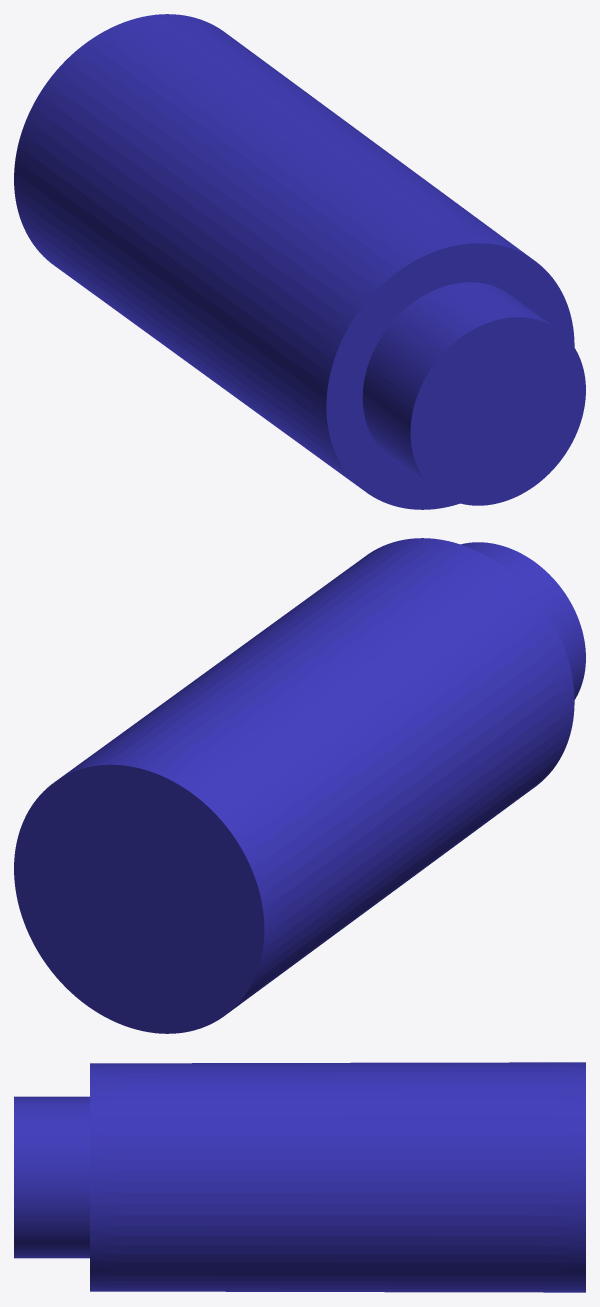
3 renders of one model, top to bottom at view 1: azimuth 30°, elevation 25°; view 2: azimuth 150°, elevation 25°; view 3: azimuth 270°, elevation 25°, orthographic. The views are drawn at different scales.
Visible parts, largest first — view 1: node; view 2: node; view 3: node.
Boxes of the visible parts, x1,y1,x2,y2 form: node: (14,14,585,509); node: (14,538,585,1033); node: (14,1062,585,1292).
Bounding box in the file's own units: 0.0697 × 0.0696 × 0.173.
